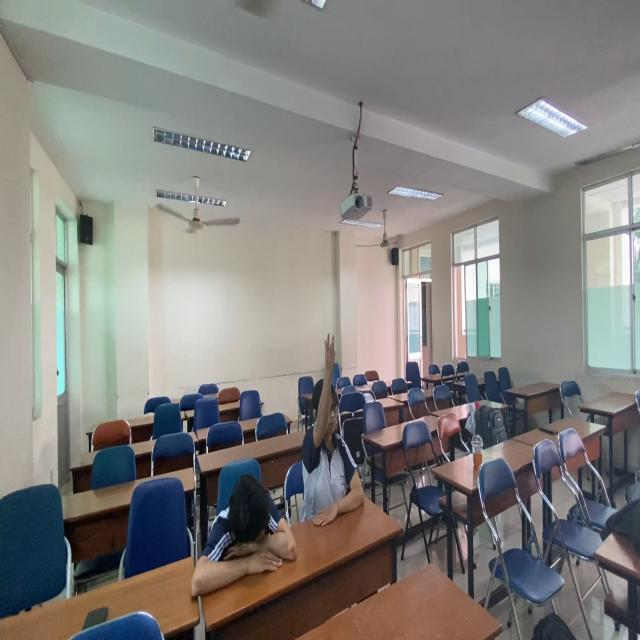raise_hand: (300, 327, 370, 518)
sleep: (188, 477, 303, 595)
